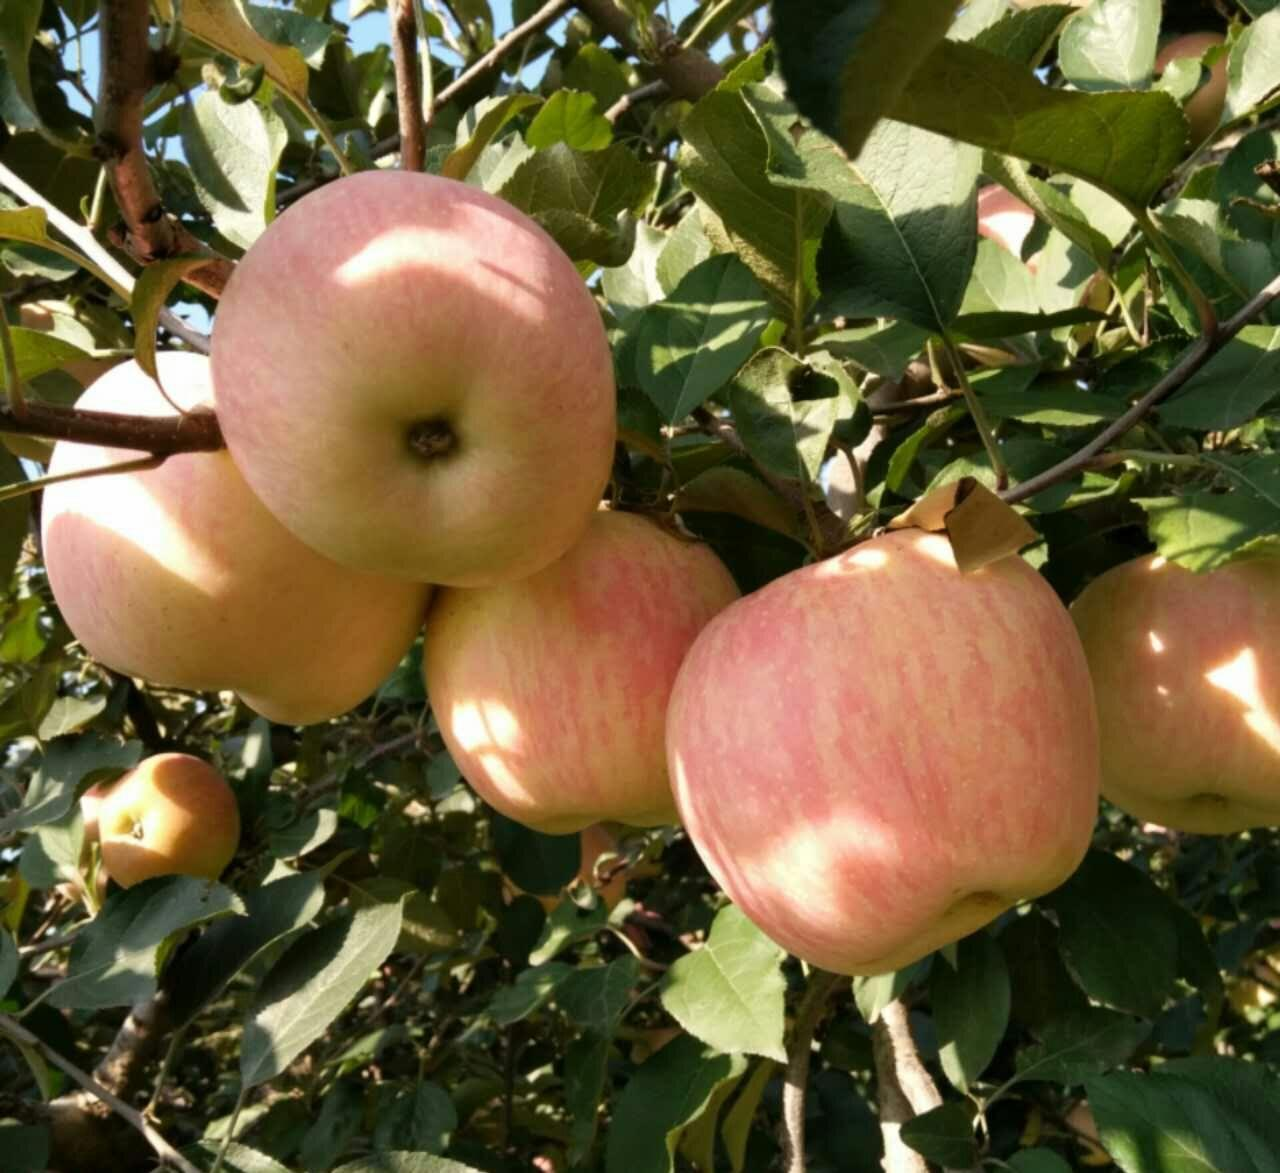apple: (62, 125, 845, 873), (235, 279, 1102, 927), (256, 220, 718, 799), (667, 491, 1106, 991), (221, 172, 618, 571), (418, 500, 748, 845), (1071, 543, 1280, 838), (85, 749, 243, 898)
